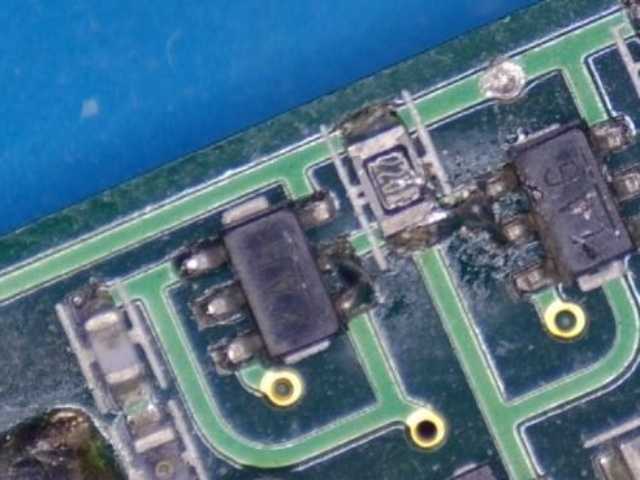pcb_defect: (379, 163, 540, 250), (310, 232, 378, 321)
